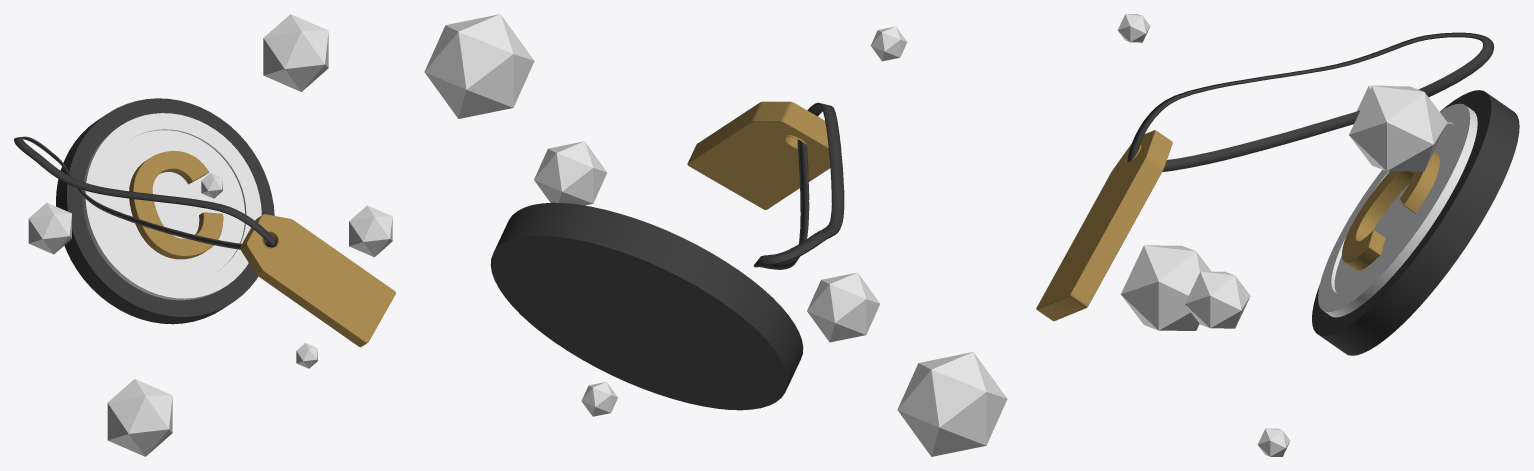
The model's file is modelDraco2.gltf.
3 renders of one model, left to right at view 1: azimuth 30°, elevation 25°; view 2: azimuth 150°, elevation 25°; view 3: azimuth 270°, elevation 25°, orthographic. The views are drawn at different scales.
Parts seen in each view (by area): view 1: Tube007, Cylinder032, Line877526542, Tube006, Text015, Hedra001.004, Hedra001.002, Line877526543, Hedra001.001, Hedra001.005, Hedra001.003, Hedra001; view 2: Tube007, Line877526542, Hedra001.002, Hedra001.004, Line877526543, Hedra001.005, Hedra001.001, Hedra001, Hedra001.003; view 3: Tube007, Line877526542, Hedra001.004, Tube006, Line877526543, Hedra001.002, Text015, Cylinder032, Hedra001.001, Hedra001, Hedra001.003.
Boxes of the visible parts, <box> form: Tube007: <box>56,98,274,324</box>; Cylinder032: <box>101,130,244,282</box>; Line877526542: <box>240,214,395,347</box>; Tube006: <box>82,113,261,300</box>; Text015: <box>129,151,223,259</box>; Hedra001.004: <box>263,14,328,91</box>; Hedra001.002: <box>107,379,172,456</box>; Line877526543: <box>14,136,276,249</box>; Hedra001.001: <box>349,205,392,257</box>; Hedra001.005: <box>28,202,71,254</box>; Hedra001.003: <box>296,343,317,368</box>; Hedra001: <box>201,173,222,198</box>; Tube007: <box>490,202,803,410</box>; Line877526542: <box>687,101,830,209</box>; Hedra001.002: <box>897,352,1007,456</box>; Hedra001.004: <box>424,14,534,118</box>; Line877526543: <box>753,102,844,269</box>; Hedra001.005: <box>807,272,880,342</box>; Hedra001.001: <box>534,141,607,205</box>; Hedra001: <box>870,26,907,61</box>; Hedra001.003: <box>581,382,617,416</box>; Tube007: <box>1312,90,1519,355</box>; Line877526542: <box>1036,130,1172,321</box>; Hedra001.004: <box>1349,86,1447,171</box>; Tube006: <box>1318,103,1477,317</box>; Line877526543: <box>1127,32,1494,171</box>; Hedra001.002: <box>1120,245,1211,330</box>; Text015: <box>1342,152,1439,270</box>; Cylinder032: <box>1334,124,1456,293</box>; Hedra001.001: <box>1185,271,1250,328</box>; Hedra001: <box>1117,14,1150,42</box>; Hedra001.003: <box>1257,428,1290,456</box>.
Bounding box in the file's own units: 309 × 298 × 332.
